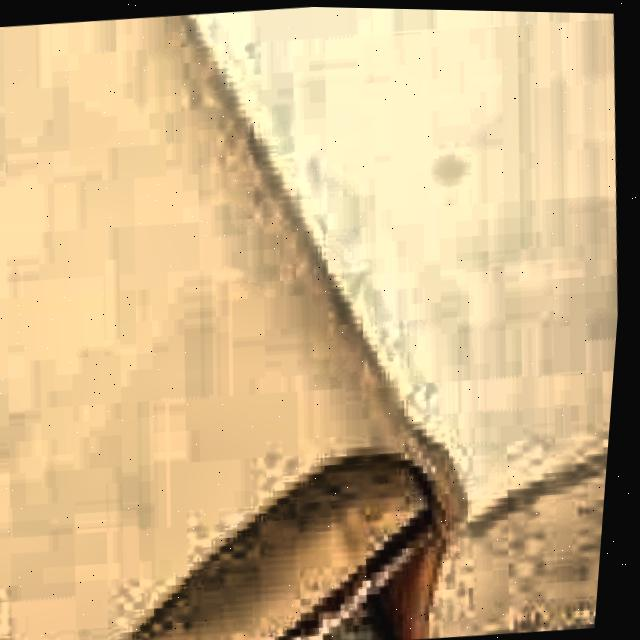paper: (0, 0, 640, 640), (80, 2, 640, 560), (0, 0, 485, 640)
